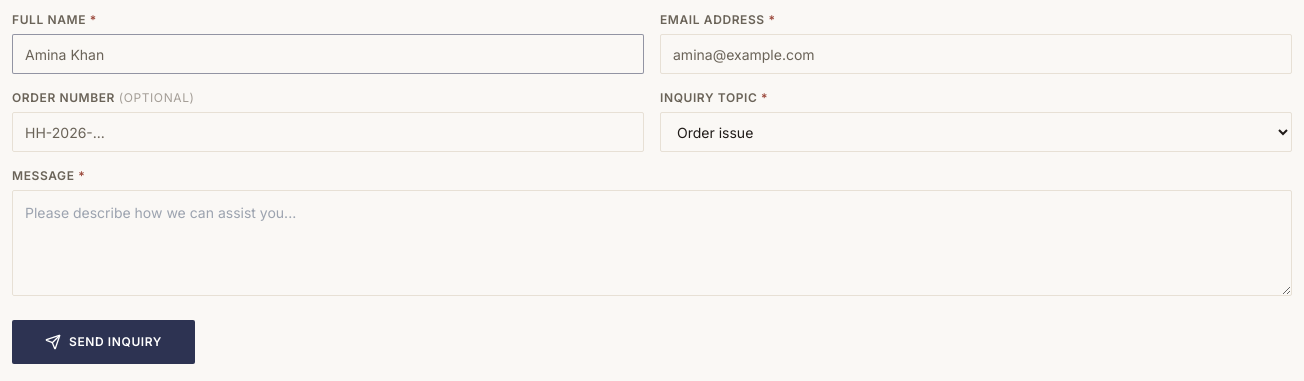
Scenario: ContactForm Component › submits successfully and renders acknowledgment message with 24h SLA
Type "Zoya Rahman" into the field labelled "Full Name *" at (328, 54), box [12,34,644,74]
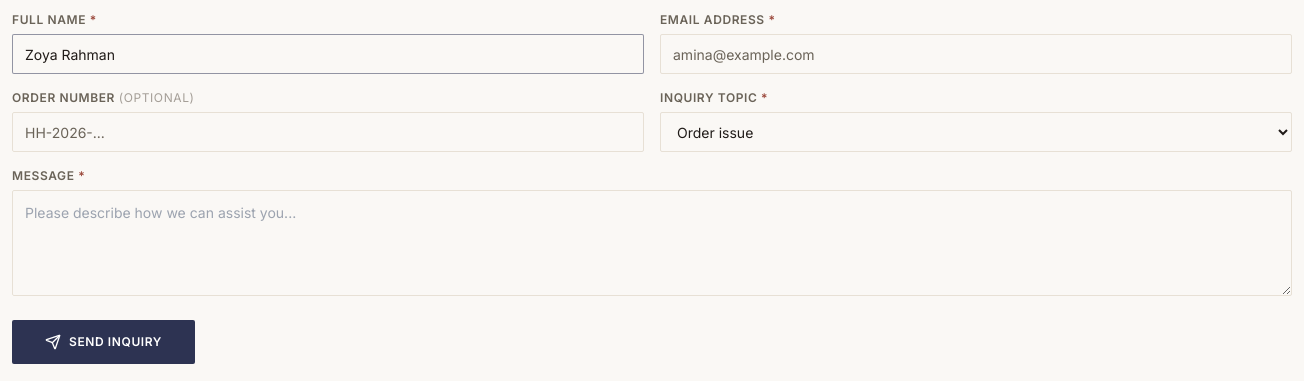
Type "zoya@example.com" into the field labelled "Email Address *" at (976, 54), box [660,34,1292,74]
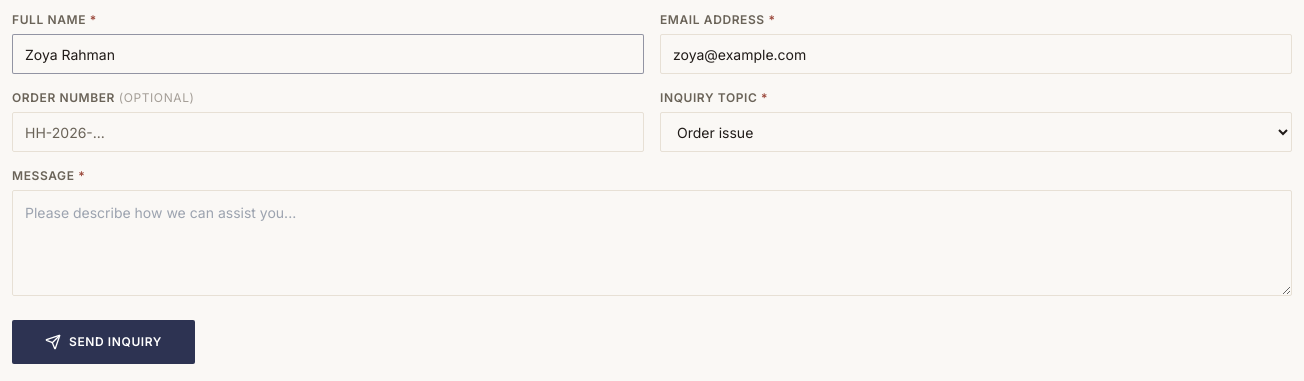
Type "HH-2026-9921" into the field labelled "Order Number (Optional)" at (328, 132), box [12,112,644,152]
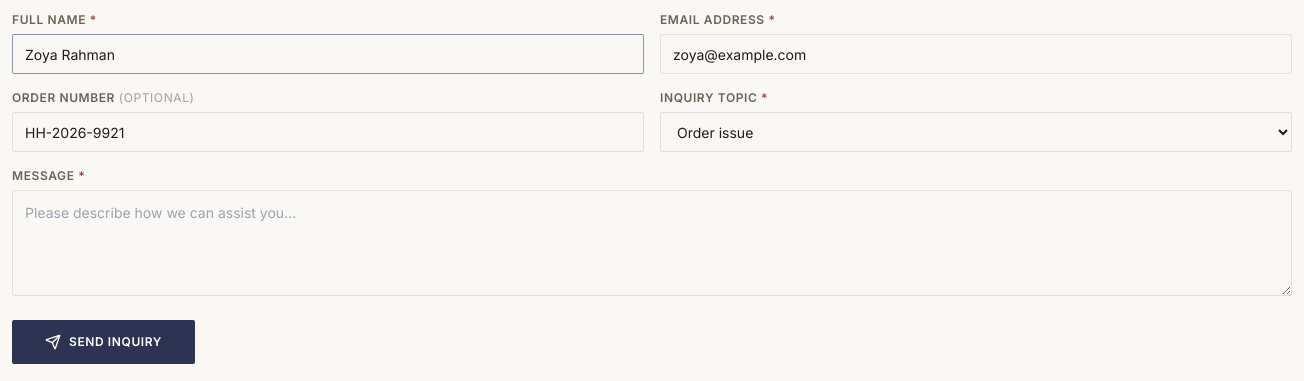
Select "Shipping question" in the dropdown labelled "Inquiry Topic *" at (976, 132), box [660,112,1292,152]
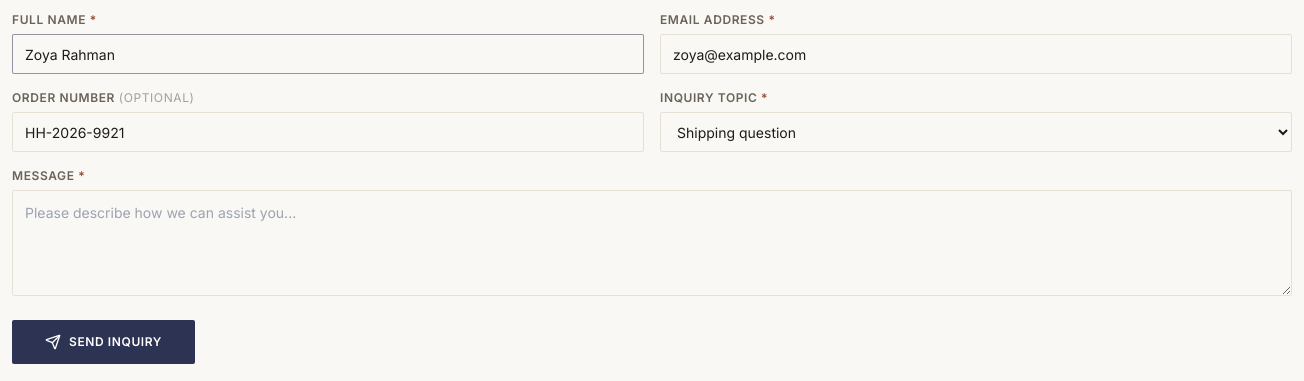
Type "Hello, could you confirm when my package will arrive in Bangalore?" into the text box labelled "Message *" at (652, 243), box [12,190,1292,296]
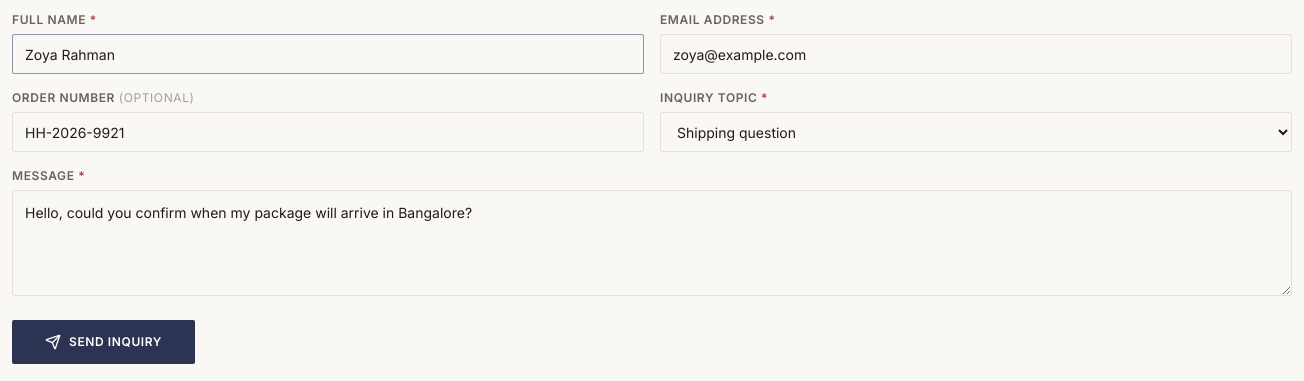
Submit the form named "Send Inquiry"
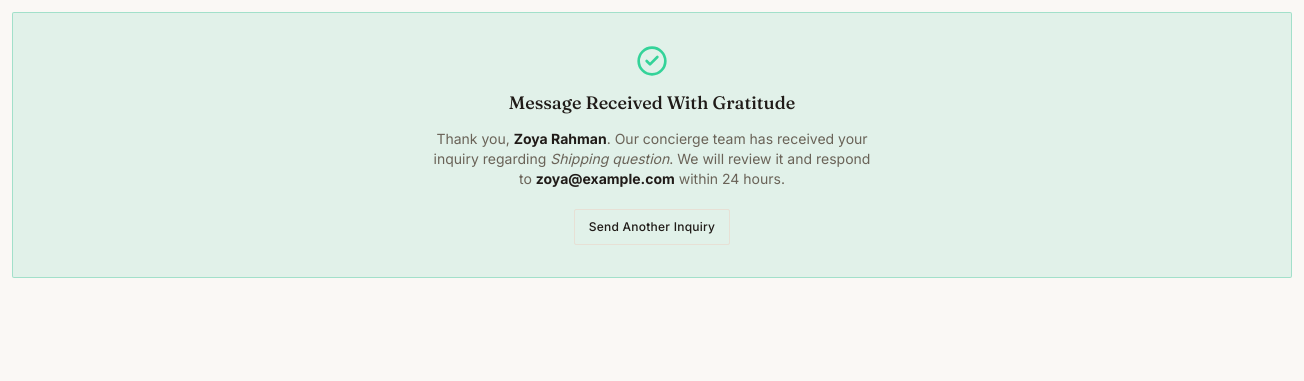
Result: the heading "Message Received With Gratitude" is shown at [509,91,795,114]
Result: the text "within 24 hours" is shown at [675,170,785,187]
Result: the text "Zoya Rahman" is shown at [514,130,607,147]
